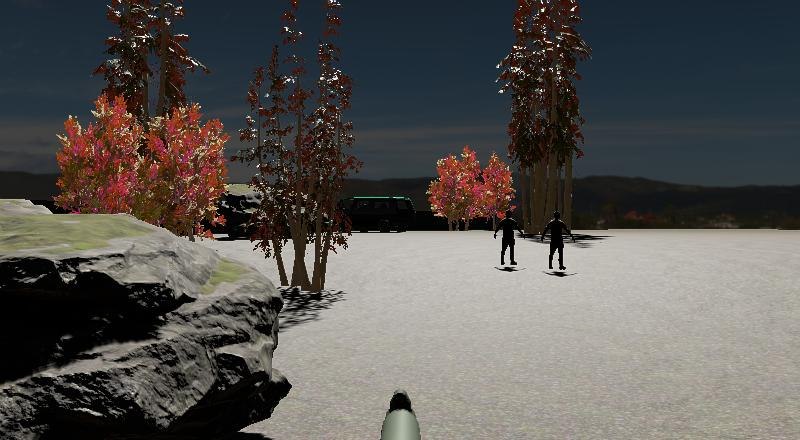car: (338, 194, 416, 233)
